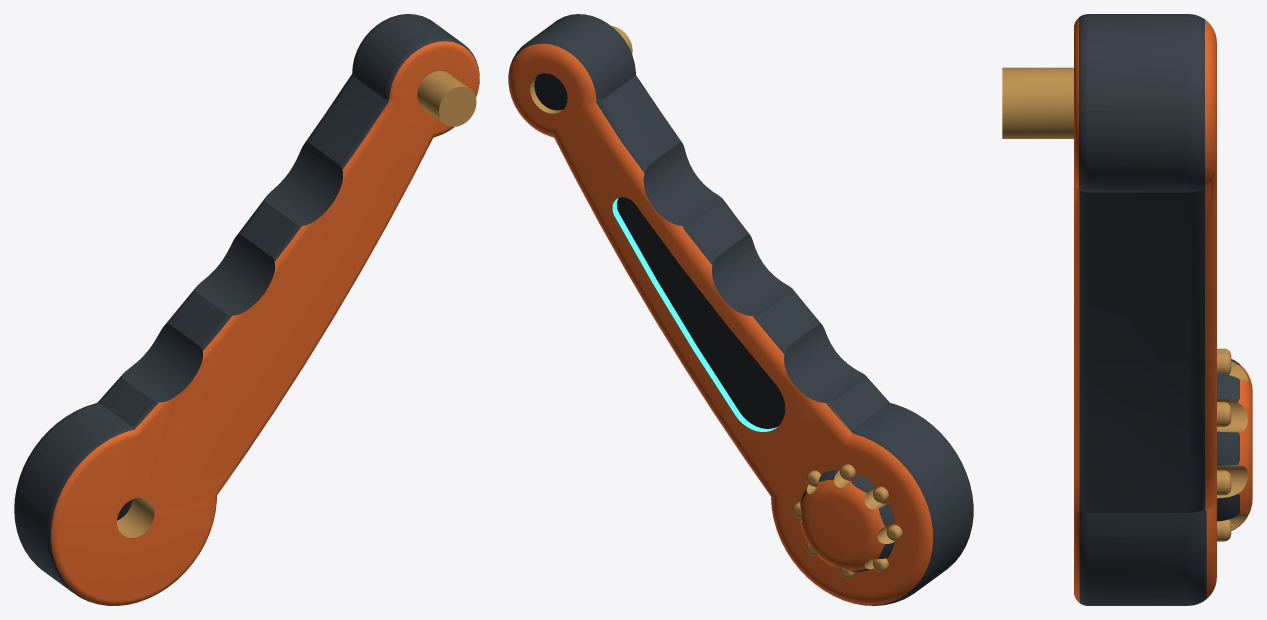
The model's file is upper-arm-link.glb.
3 views of the same model, side by side, from view 1: azimuth 30°, elevation 25°; view 2: azimuth 150°, elevation 25°; view 3: azimuth 270°, elevation 25° (orthographic). The views are drawn at different scales.
Size of the model in its own units: 0.115 by 0.125 by 0.035.
